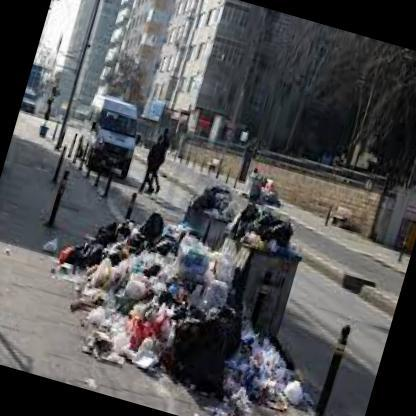Garbage: (101, 258, 228, 385), (118, 210, 224, 334), (193, 320, 316, 411), (65, 214, 163, 300), (227, 201, 300, 256), (191, 179, 241, 221)
